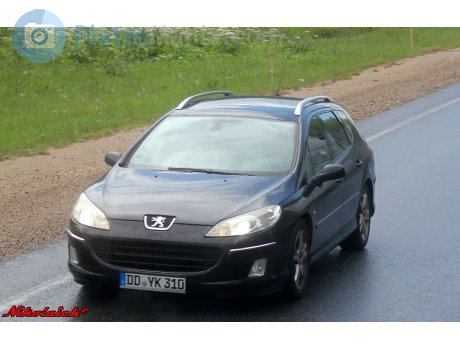License Plates: (126, 273, 183, 288)
